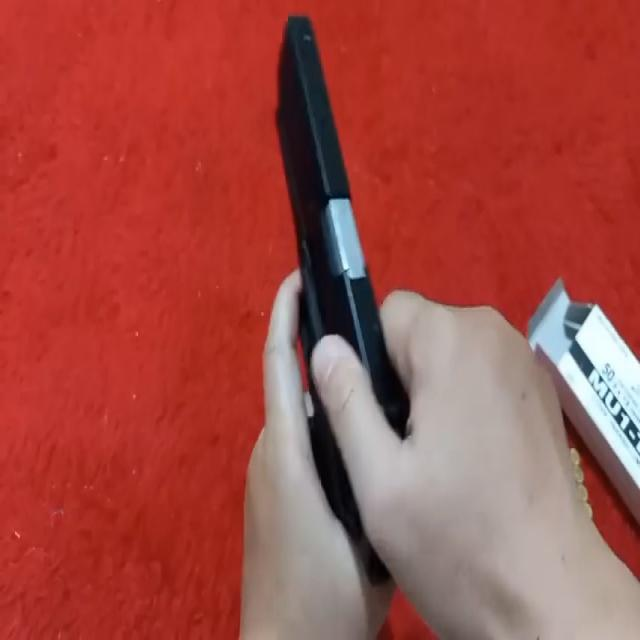handgun: (268, 0, 402, 565)
